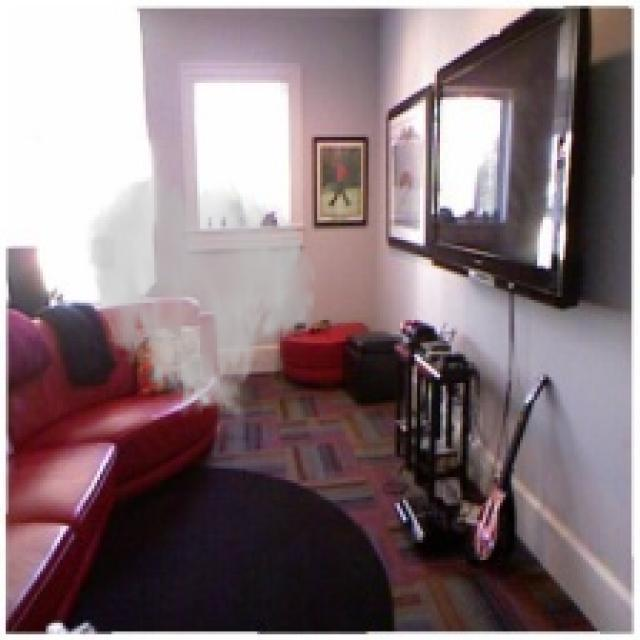Smoke: (86, 171, 320, 426)
